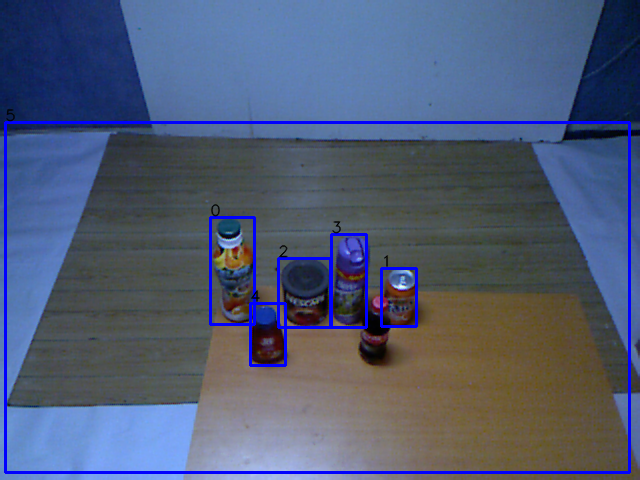aerosol: (326, 230, 373, 334)
cafe: (276, 256, 334, 331)
coca: (356, 295, 395, 373)
ketchup: (242, 304, 292, 368)
lata: (379, 266, 420, 330)
yogurt: (204, 217, 260, 327)
